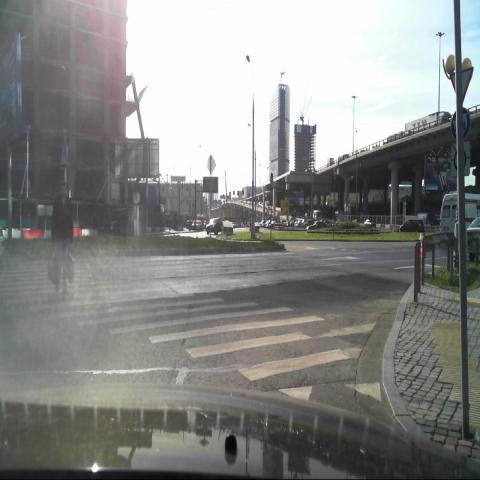4_3: (451, 107, 471, 141)
